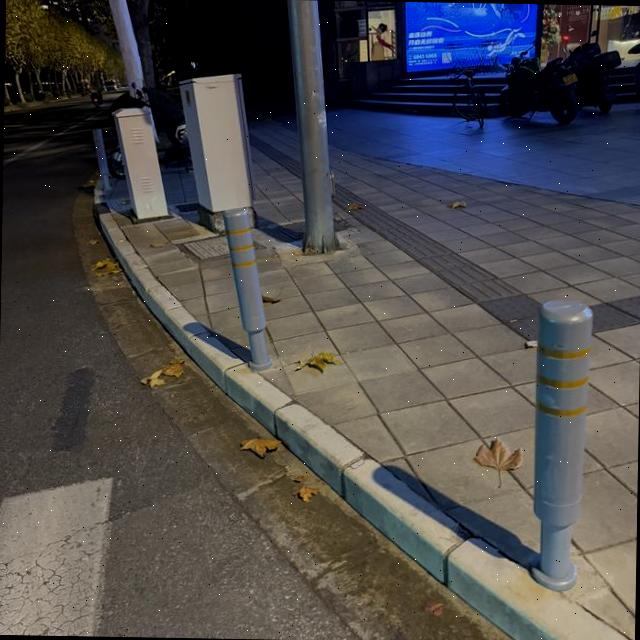curb: (100, 212, 624, 640)
